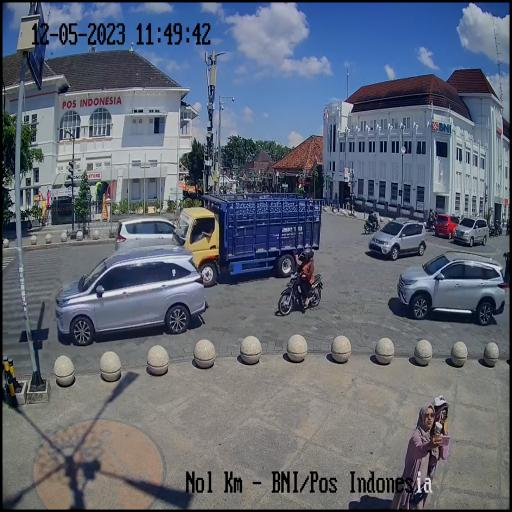mobil: (53, 237, 212, 347), (176, 188, 324, 294), (396, 246, 508, 327), (368, 214, 428, 263)
motor: (275, 261, 328, 320)
